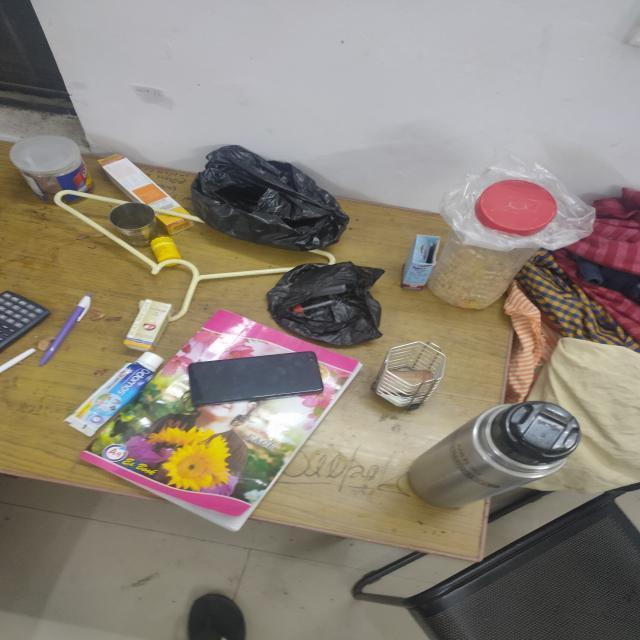Phone: (184, 352, 330, 412)
